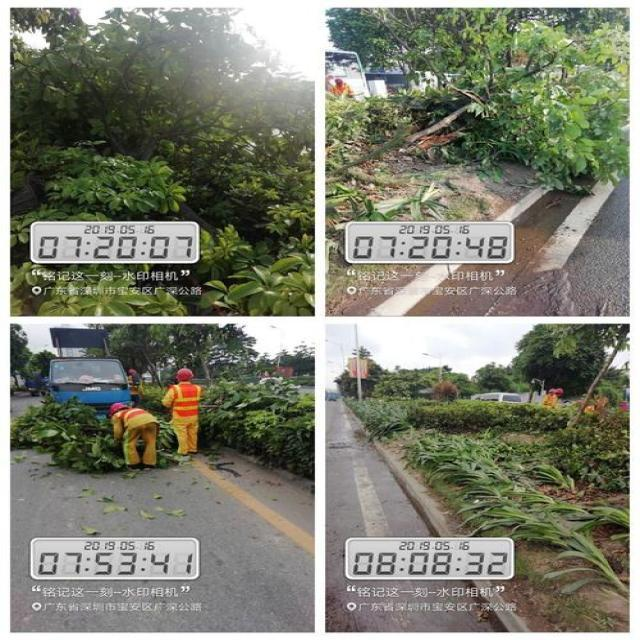fallen_object: (324, 8, 640, 184)
